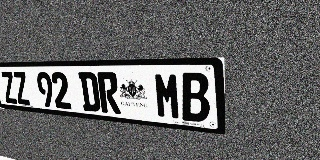2: (50, 72, 72, 109)
9: (35, 72, 56, 108)
B: (180, 73, 210, 123)
D: (78, 72, 101, 112)
M: (154, 72, 182, 120)
R: (97, 72, 121, 114)
Z: (12, 72, 31, 105), (0, 72, 18, 104)
